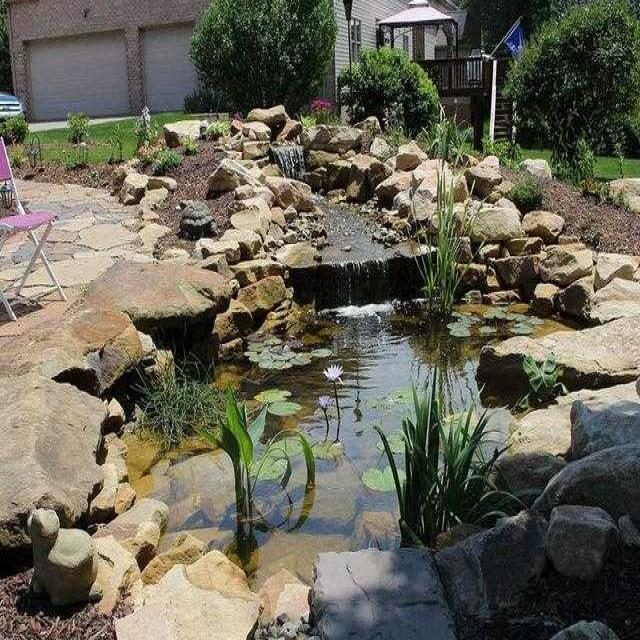Ponds: (1, 106, 640, 640)
